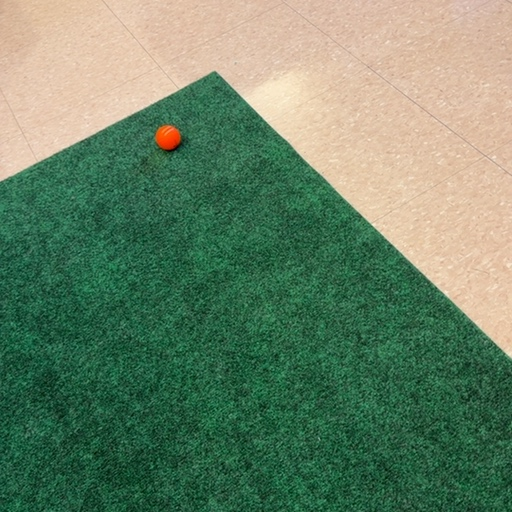Ball: (155, 125, 181, 151)
